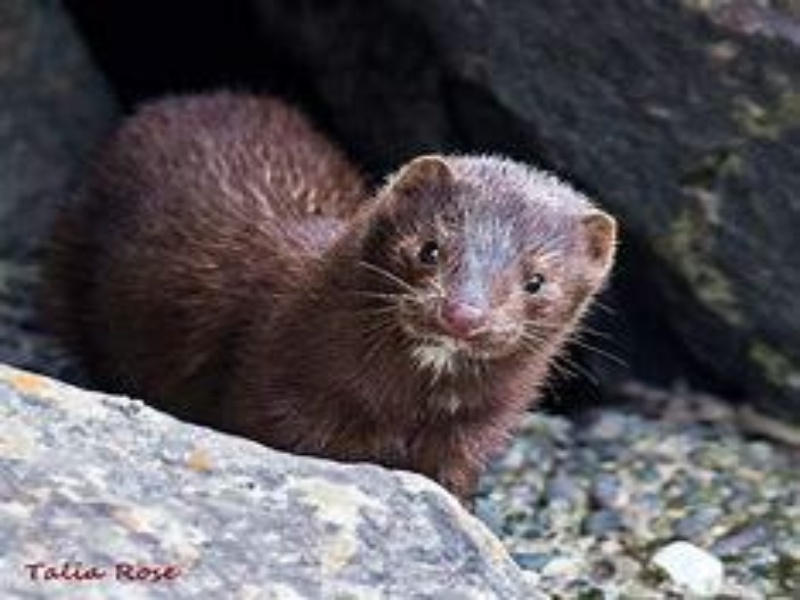minkish: (36, 84, 618, 537)
